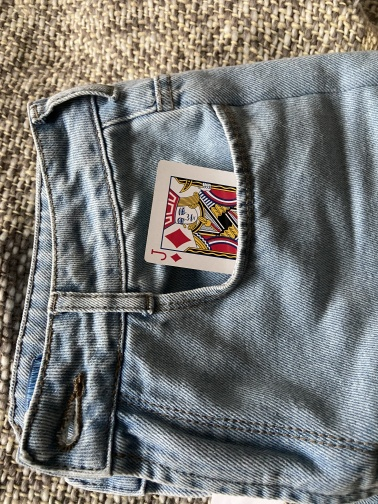jack: (142, 157, 322, 286)
